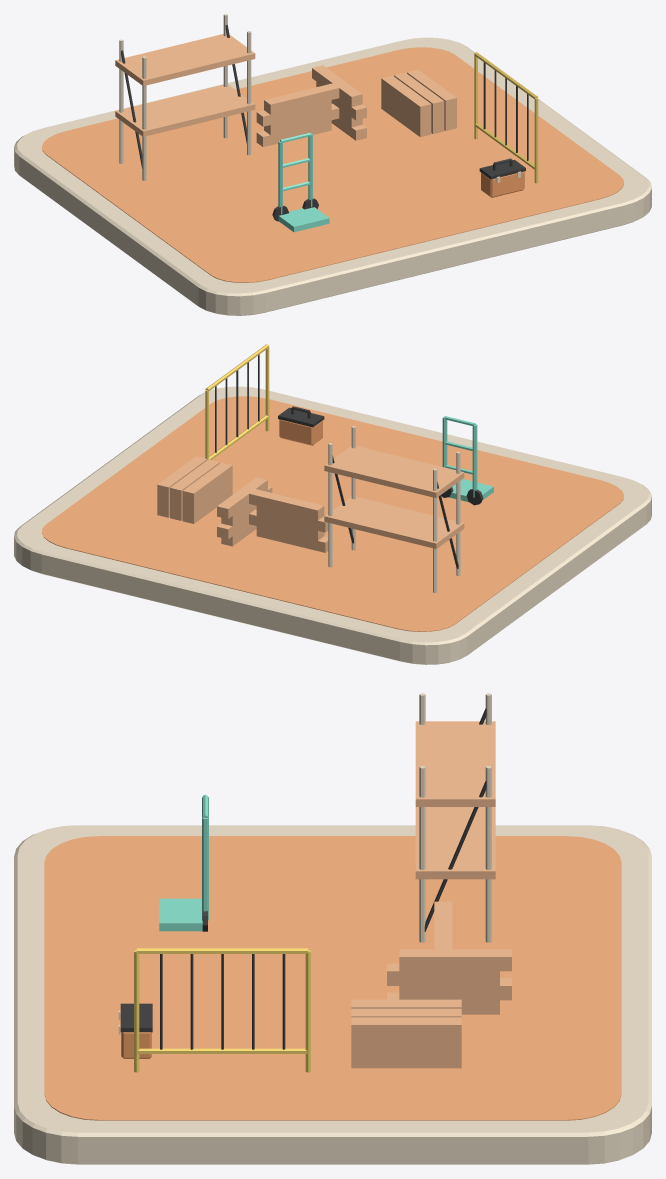
Rendered from room.fbx.
The picture shows the model from 3 angles, top to bottom: view 1: azimuth 30°, elevation 25°; view 2: azimuth 150°, elevation 25°; view 3: azimuth 270°, elevation 25°; orthographic projection. The views are drawn at different scales.
Visible parts, largest first — view 1: COM-02 Floor Surface, COM-01 Rounded Base Direct, Platform.001, Platform, Timber.006, Loading plate, Box, Timber.007, Timber.008, Upright.002, Upright, Timber (+3 smaller); view 2: COM-02 Floor Surface, COM-01 Rounded Base Direct, Platform.001, Platform, Timber.006, Box, Timber.007, Timber.008, Upright.003, Upright.001, Timber.003, Timber (+3 smaller); view 3: COM-02 Floor Surface, COM-01 Rounded Base Direct, Platform.001, Platform, Timber.008, Timber.002, Timber.005, Loading plate, Timber.006, Timber.007, Upright.002, Upright.003 (+9 smaller).
Part boxes in pixels (box(x1,y1,x2,y2)): COM-02 Floor Surface: box(42, 47, 623, 282); COM-01 Rounded Base Direct: box(14, 37, 651, 315); Platform.001: box(115, 34, 255, 85); Platform: box(115, 84, 255, 136); Timber.006: box(381, 75, 431, 116); Loading plate: box(278, 207, 329, 232); Box: box(481, 171, 524, 197); Timber.007: box(394, 72, 444, 113); Timber.008: box(407, 69, 456, 110); Upright.002: box(247, 31, 251, 155); Upright: box(142, 56, 146, 180); Timber: box(381, 99, 431, 137); COM-02 Floor Surface: box(42, 396, 623, 631); COM-01 Rounded Base Direct: box(14, 386, 651, 664); Platform.001: box(324, 446, 464, 498); Platform: box(324, 496, 464, 548); Timber.006: box(182, 462, 232, 503); Box: box(279, 419, 322, 445); Timber.007: box(170, 459, 219, 500); Timber.008: box(157, 456, 207, 497); Upright.003: box(328, 443, 332, 567); Upright.001: box(433, 468, 437, 592); Timber.003: box(182, 475, 232, 513); Timber: box(182, 486, 232, 523); COM-02 Floor Surface: box(44, 836, 621, 1120); COM-01 Rounded Base Direct: box(14, 825, 651, 1164); Platform.001: box(415, 721, 495, 806); Platform: box(415, 807, 495, 879); Timber.008: box(351, 1017, 461, 1039); Timber.002: box(351, 1054, 461, 1068); Timber.005: box(351, 1039, 461, 1053); Loading plate: box(159, 898, 202, 931); Timber.006: box(351, 999, 461, 1008); Timber.007: box(351, 1008, 461, 1017); Upright.002: box(419, 766, 425, 942); Upright.003: box(485, 766, 491, 942).
Size of the model in its own units: 600 by 187 by 520.
